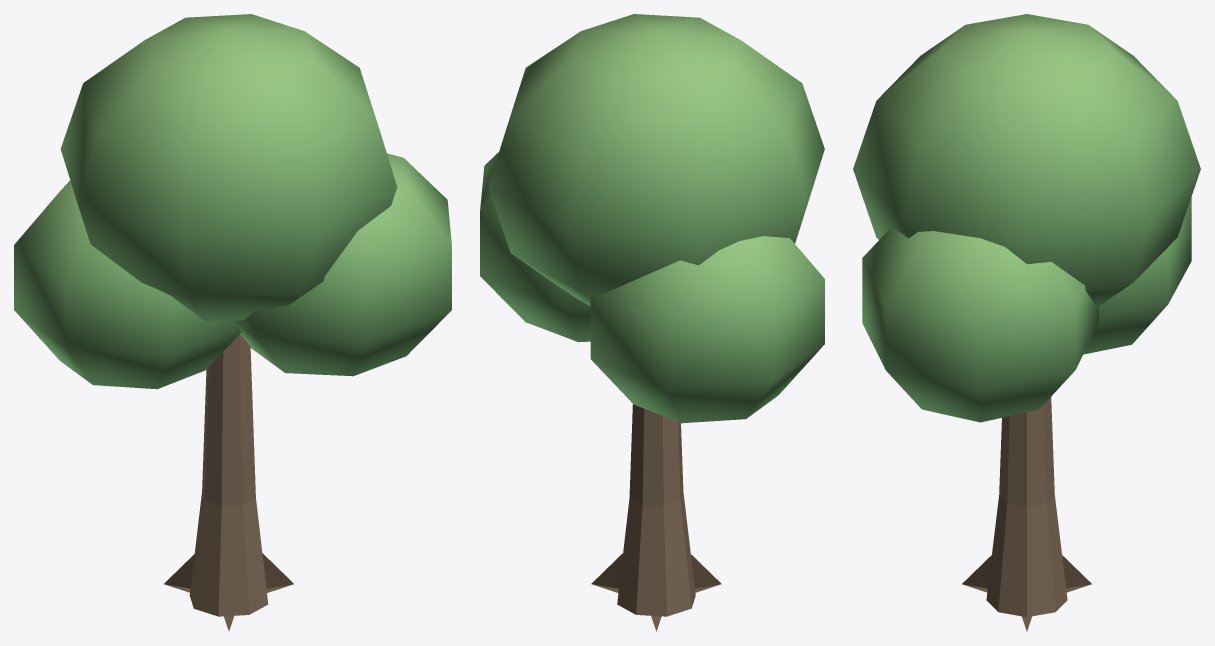
Rendered from tree_small.glb.
3 renders of one model, left to right at view 1: azimuth 30°, elevation 25°; view 2: azimuth 150°, elevation 25°; view 3: azimuth 270°, elevation 25°, orthographic.
Size of the model in its own units: 3.58 by 5.4 by 3.
